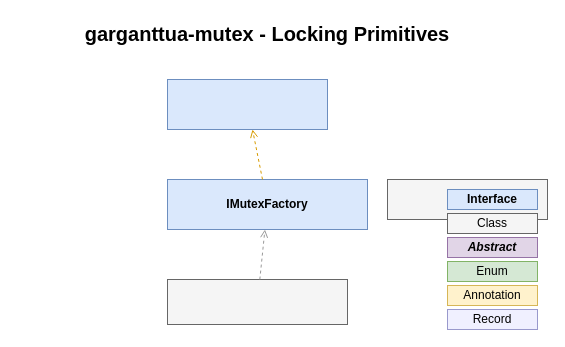
Image size: 565x347. Some labels were removed from this diagram. The shapes that lost their labels are listed below. From the top down, each one's box as (x1, y1, x2, y2) in pixels, then its label:
(166, 78, 328, 130): IMutex
(386, 178, 548, 220): MutexException
(166, 278, 348, 324): MutexBuilder
